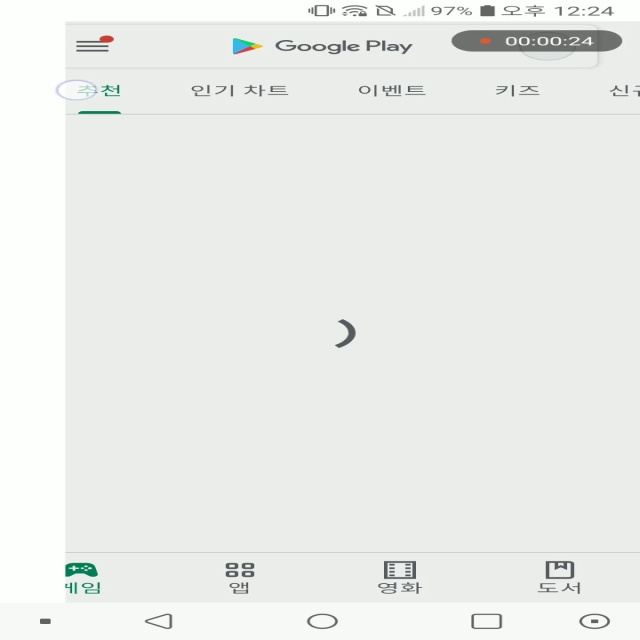Cursor: (56, 80, 101, 102)
